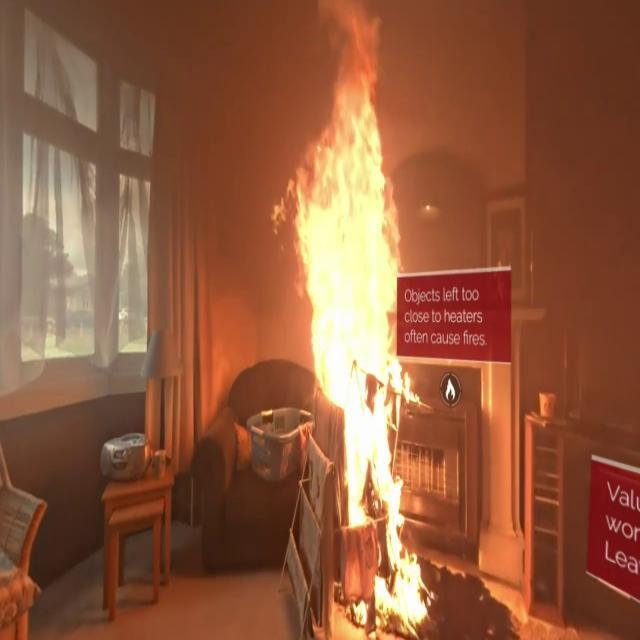Fire: (290, 24, 422, 629)
